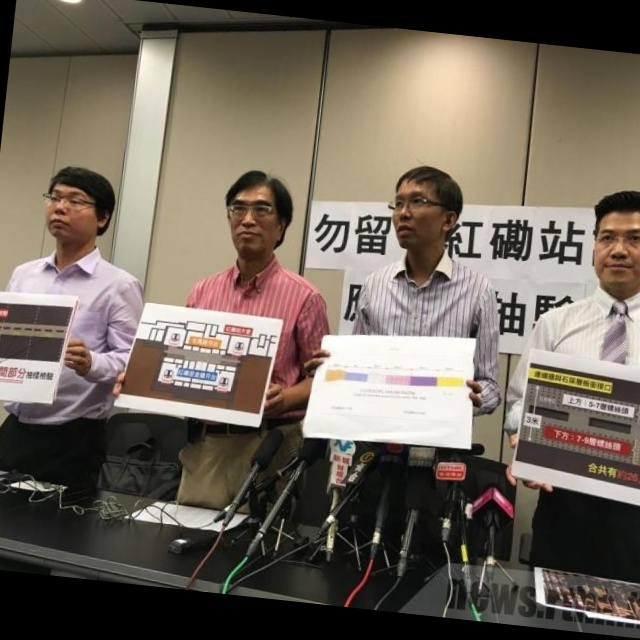Sin_Casco_Mascarrilla: (383, 162, 470, 260), (578, 186, 640, 304), (221, 170, 299, 262), (46, 166, 120, 248)
